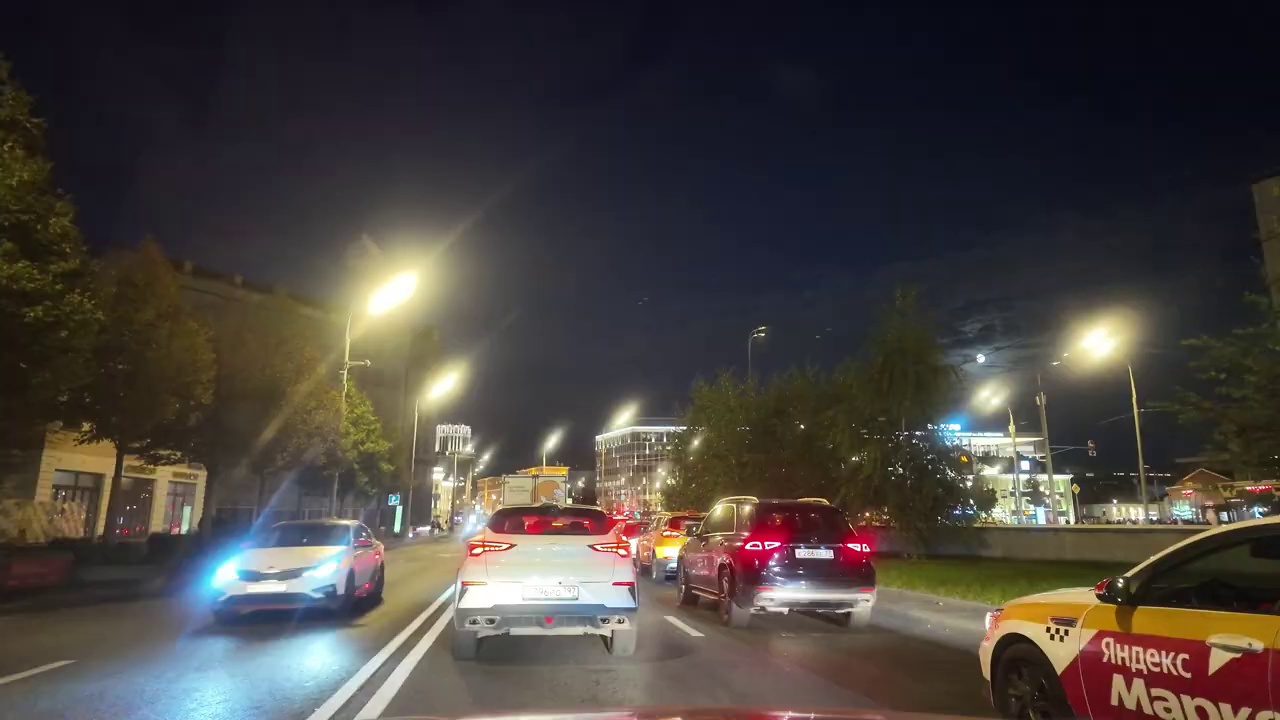acesa: (362, 264, 429, 324), (1066, 317, 1130, 377), (414, 360, 464, 413), (969, 381, 1009, 418), (604, 397, 638, 438)
